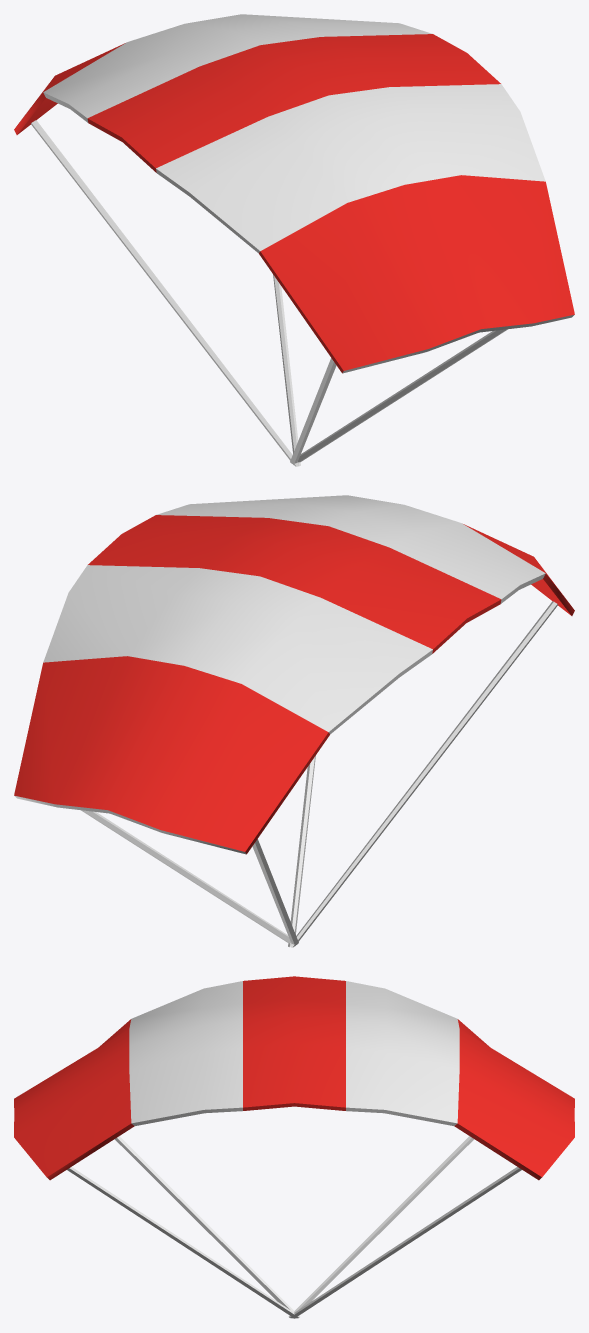
Rendered from parasut.fbx.
3 renders of one model, top to bottom at view 1: azimuth 30°, elevation 25°; view 2: azimuth 150°, elevation 25°; view 3: azimuth 270°, elevation 25°, orthographic. The views are drawn at different scales.
Parts seen in each view (by area): view 1: Plane; view 2: Plane; view 3: Plane.
Part boxes in pixels (x1,y1,x2,y2): Plane: [14, 14, 574, 466]; Plane: [14, 495, 574, 947]; Plane: [14, 976, 574, 1318].
Size of the model in its own units: 168 by 186 by 314.
